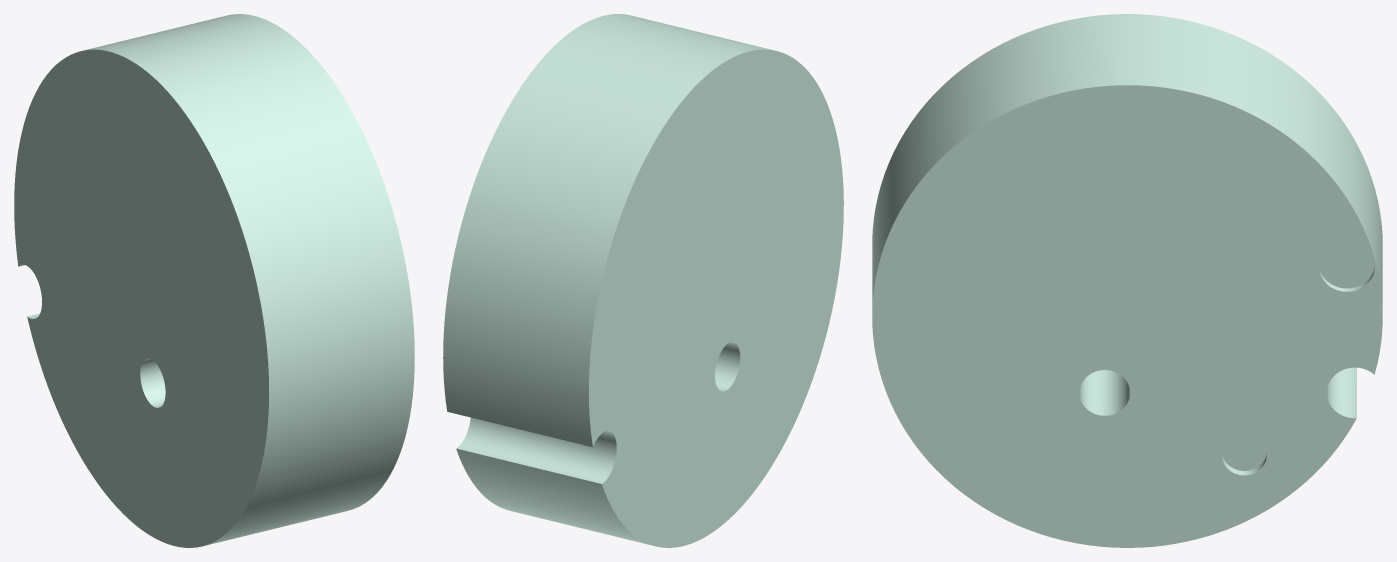
3 renders of one model, left to right at view 1: azimuth 30°, elevation 25°; view 2: azimuth 150°, elevation 25°; view 3: azimuth 270°, elevation 25°, orthographic.
Parts seen in each view (by area): view 1: Renderer Node; view 2: Renderer Node; view 3: Renderer Node.
Boxes of the visible parts, x1,y1,x2,y2 form: Renderer Node: [14, 14, 414, 547]; Renderer Node: [443, 14, 843, 547]; Renderer Node: [872, 14, 1382, 547].
Size of the model in its own units: 0.5 by 1.52 by 1.52.
